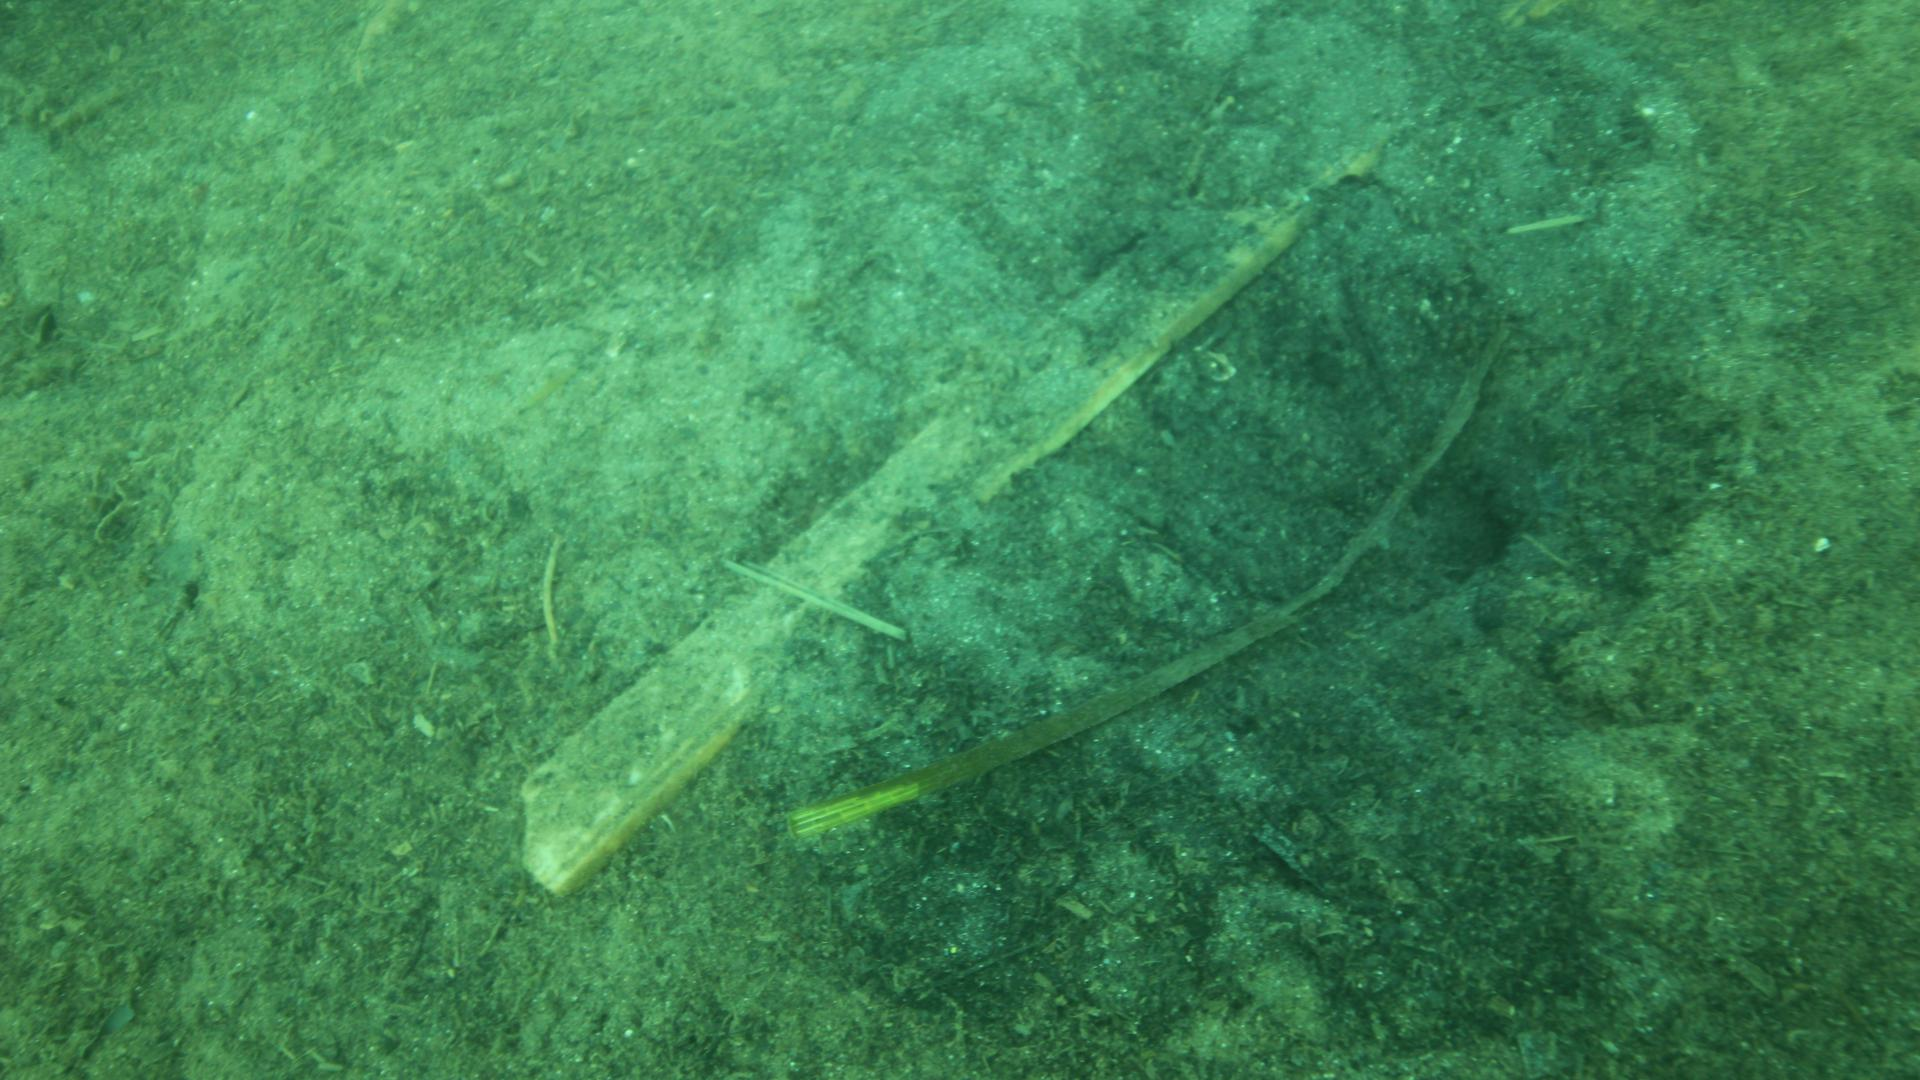wood: (516, 153, 1371, 897)
